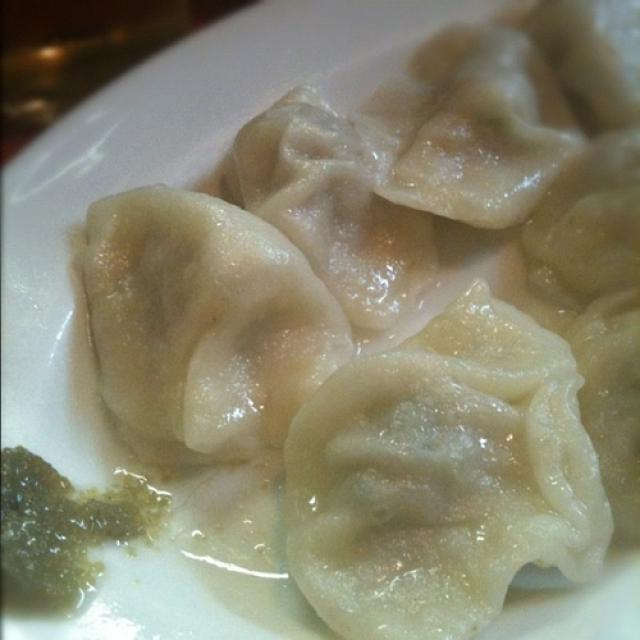带馅早点: (22, 39, 616, 610)
